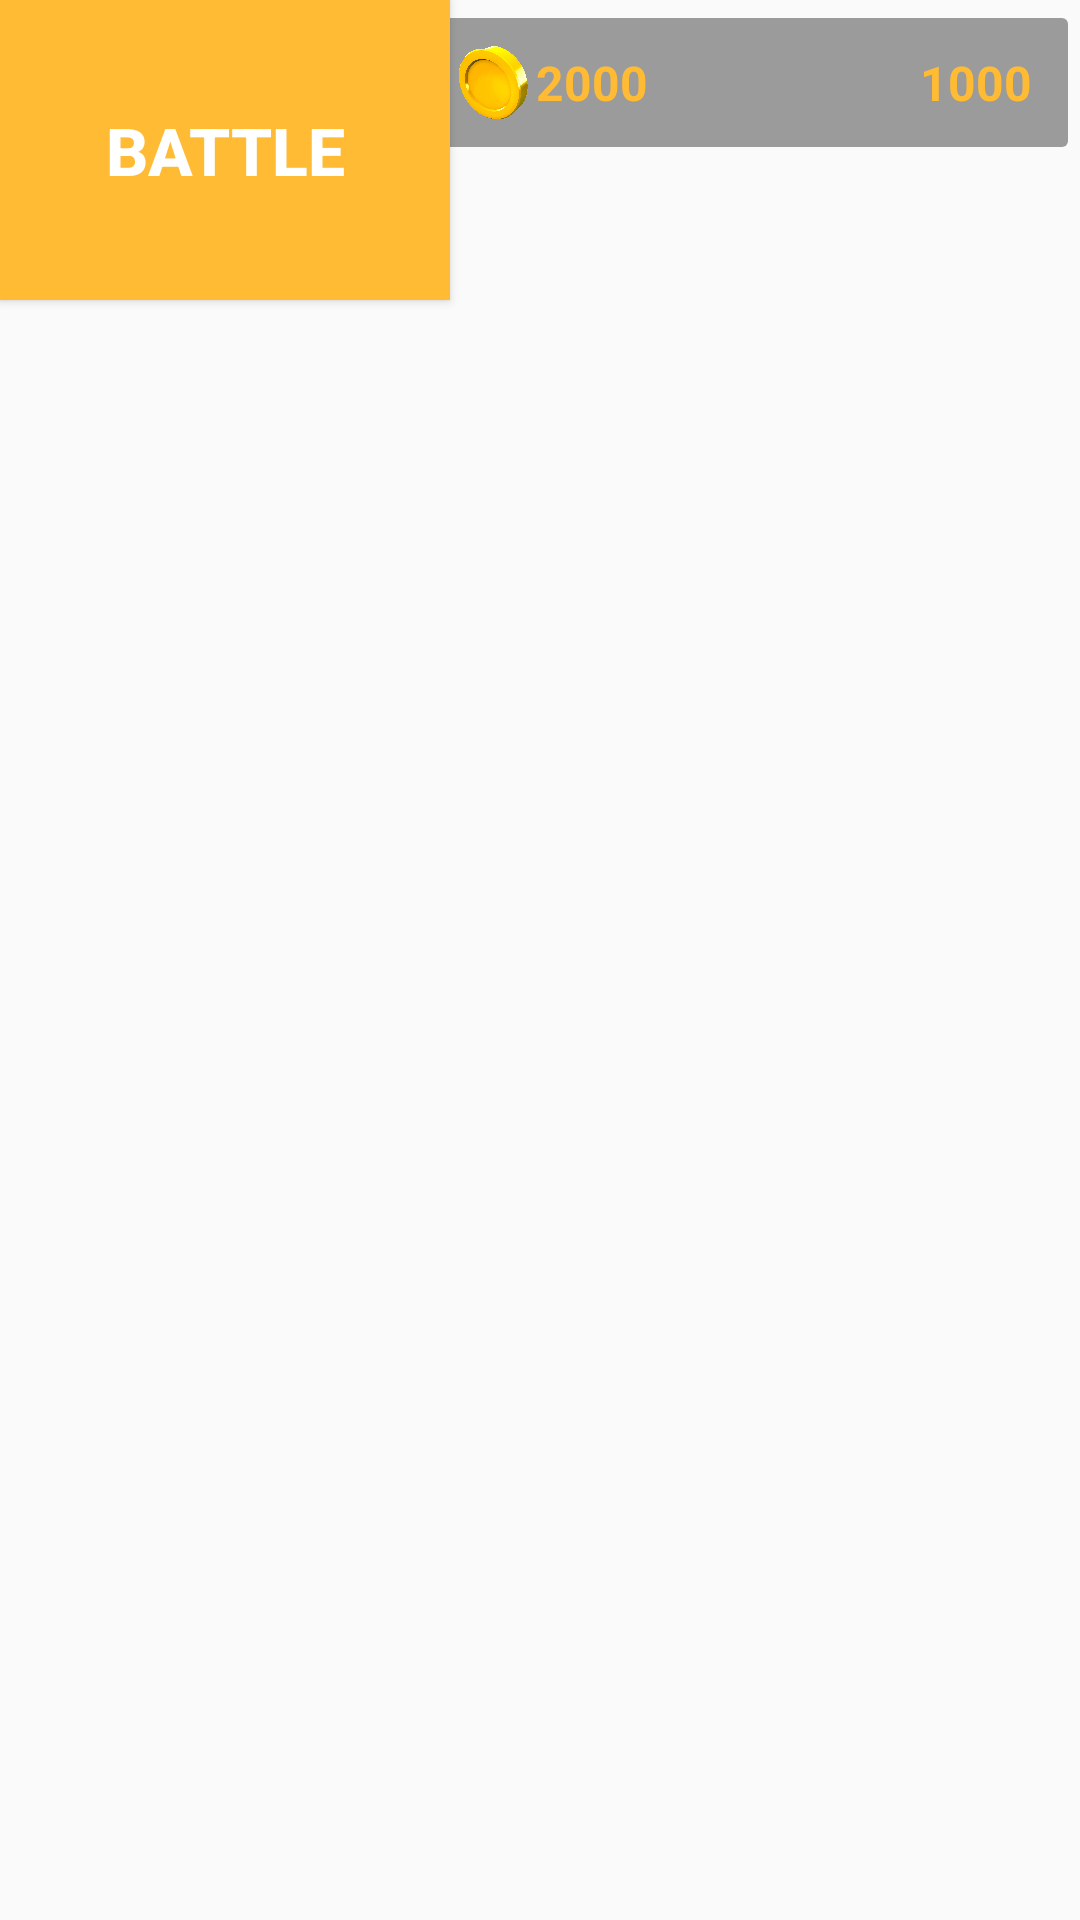

Named icons in this screenshot (1080 × 1920) and their bounding boxes, (x1, y1, x2, y2):
coins: (459, 46, 528, 119)
